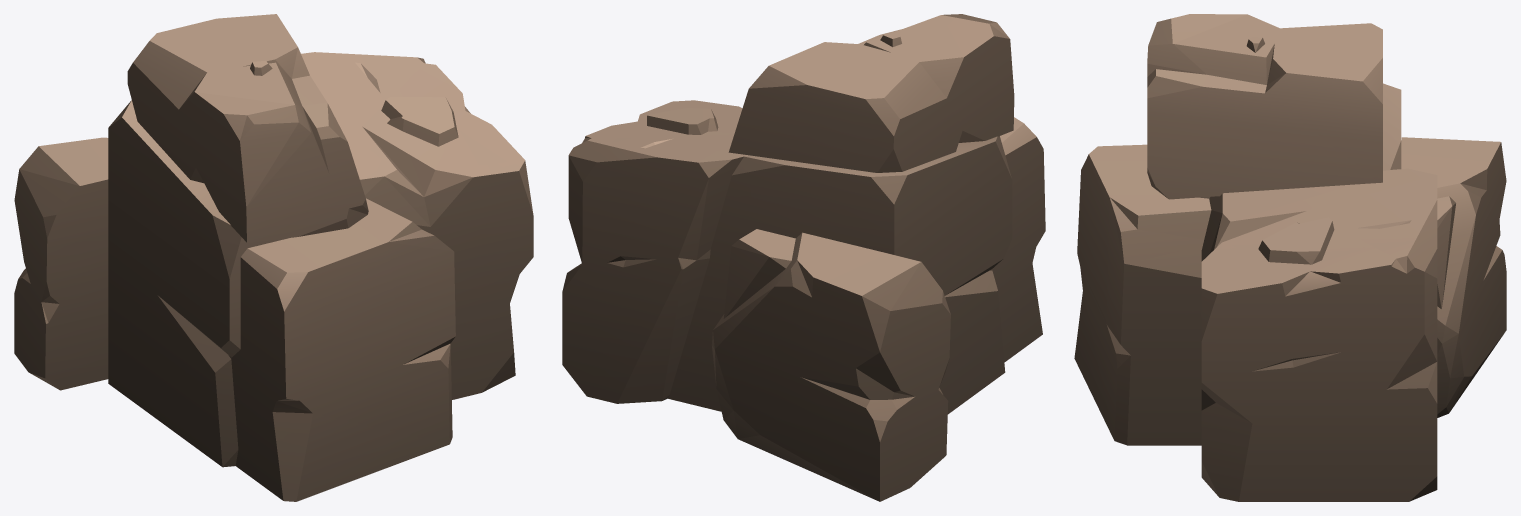
File: Rock_Large_2B.fbx
3 views of the same model, side by side, from view 1: azimuth 30°, elevation 25°; view 2: azimuth 150°, elevation 25°; view 3: azimuth 270°, elevation 25° (orthographic). The views are drawn at different scales.
Parts seen in each view (by area): view 1: Rock_Large_2B; view 2: Rock_Large_2B; view 3: Rock_Large_2B.
Boxes of the visible parts, x1,y1,x2,y2 form: Rock_Large_2B: [14, 14, 533, 501]; Rock_Large_2B: [562, 14, 1045, 501]; Rock_Large_2B: [1074, 14, 1506, 501].
Bounding box in the file's own units: 3.64 × 3.24 × 3.67.
